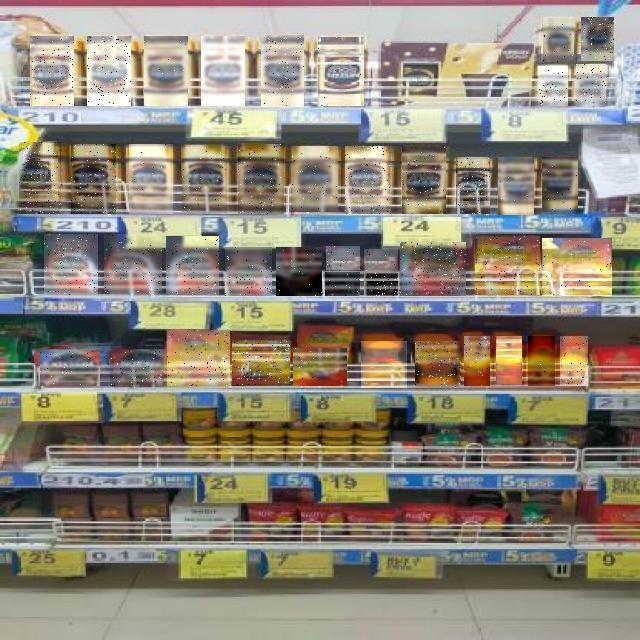Coffee: (542, 238, 612, 296), (475, 236, 540, 295), (400, 242, 466, 296), (167, 331, 230, 387), (104, 235, 162, 295), (45, 234, 99, 295), (72, 144, 118, 214), (238, 144, 284, 214), (20, 142, 64, 215), (318, 37, 364, 106), (166, 236, 219, 295), (261, 35, 304, 107), (201, 36, 245, 106), (31, 36, 75, 106), (87, 36, 131, 106), (144, 36, 188, 106), (129, 144, 173, 214), (182, 145, 227, 213), (345, 146, 390, 214), (293, 146, 339, 212), (403, 146, 447, 214), (232, 340, 290, 385), (225, 247, 272, 296), (362, 341, 410, 388), (276, 247, 322, 296), (40, 351, 100, 387), (416, 342, 462, 388), (498, 157, 534, 215), (293, 348, 347, 386), (542, 158, 578, 214), (111, 351, 165, 387), (456, 158, 490, 214), (581, 17, 614, 61), (560, 336, 588, 386), (543, 18, 574, 62), (528, 336, 555, 386), (465, 336, 491, 386), (577, 64, 607, 107), (496, 336, 522, 384), (538, 66, 568, 106), (325, 272, 360, 296), (326, 247, 360, 271), (364, 273, 398, 296), (364, 249, 398, 271)
